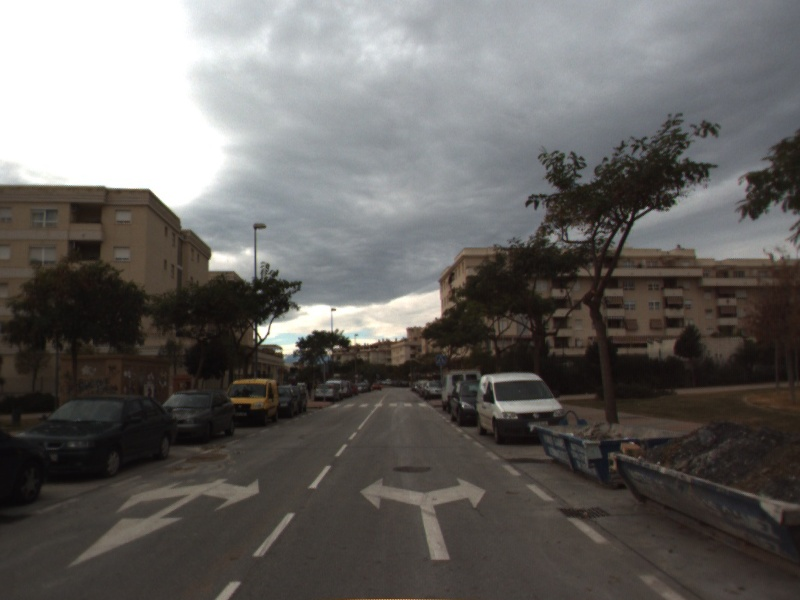LEFT_RIGHT: (357, 475, 489, 563)
